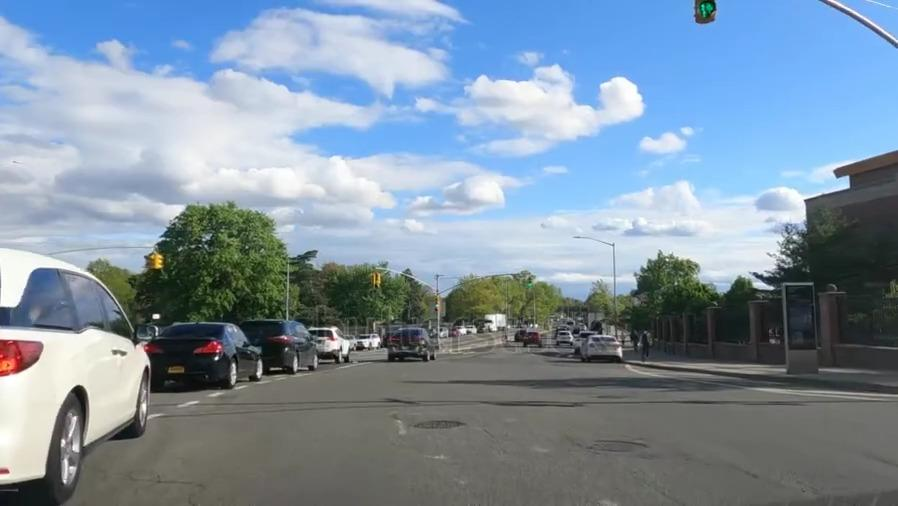car: (1, 246, 157, 499), (149, 319, 267, 389), (242, 313, 321, 376), (306, 320, 358, 366), (387, 330, 440, 363), (583, 334, 623, 362), (357, 332, 381, 353), (575, 329, 598, 349), (522, 331, 542, 347), (558, 330, 572, 346), (515, 330, 526, 341)
manhole: (413, 415, 464, 435)
person: (641, 327, 651, 360), (632, 329, 640, 354)
pothole: (587, 437, 651, 457)
traffic light: (145, 248, 166, 276), (367, 270, 383, 292), (526, 273, 533, 291)
wheel: (44, 395, 92, 500), (131, 370, 153, 437), (222, 355, 243, 388), (251, 358, 266, 382), (291, 351, 301, 375), (309, 355, 320, 371)
